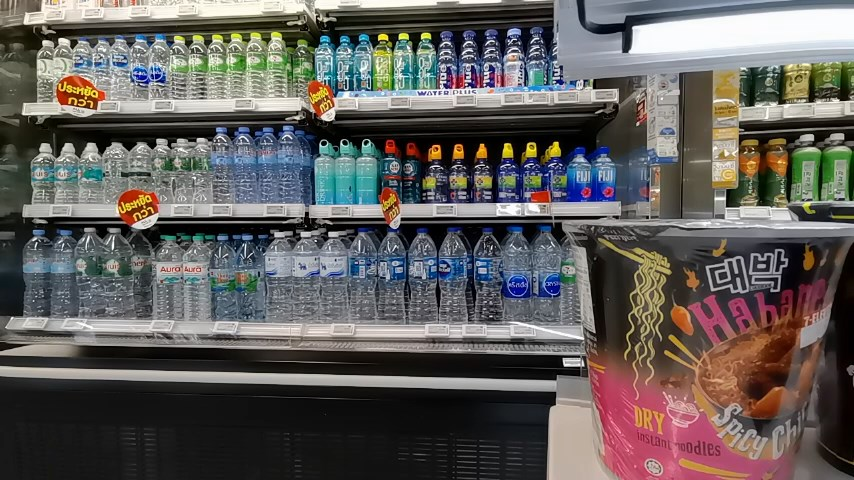0-0: (76, 226, 155, 317)
